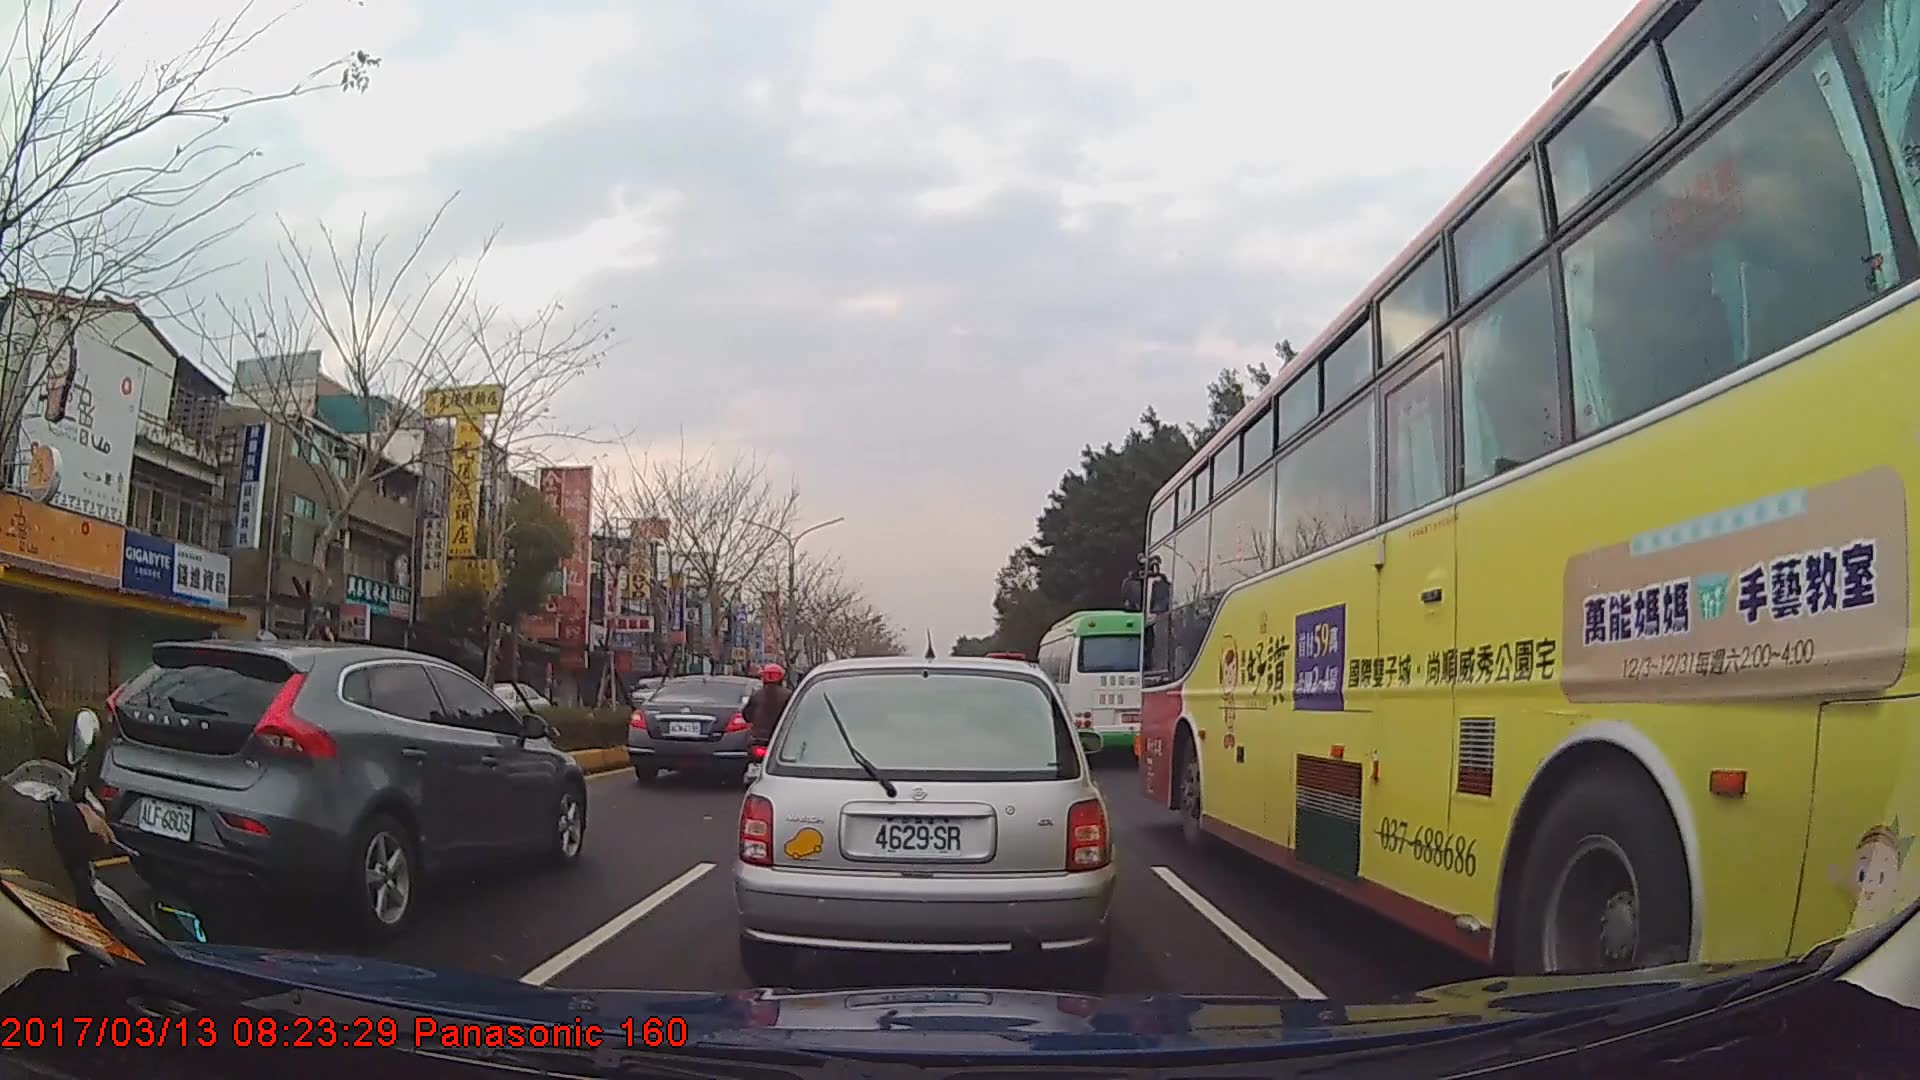rider: (743, 663, 804, 804)
vehicle: (1137, 0, 1919, 1033), (94, 635, 586, 925), (731, 652, 1113, 982), (1035, 608, 1172, 767), (628, 673, 787, 788), (462, 680, 549, 731)
